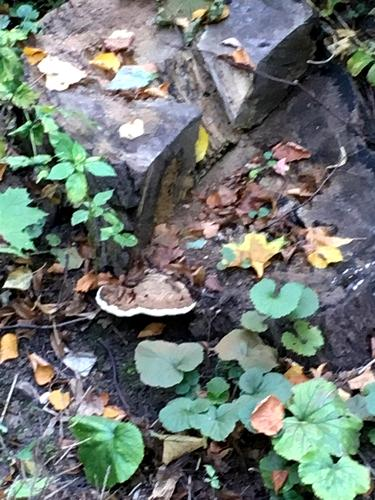Ganoderma - Fruit Body: (94, 268, 196, 317)
